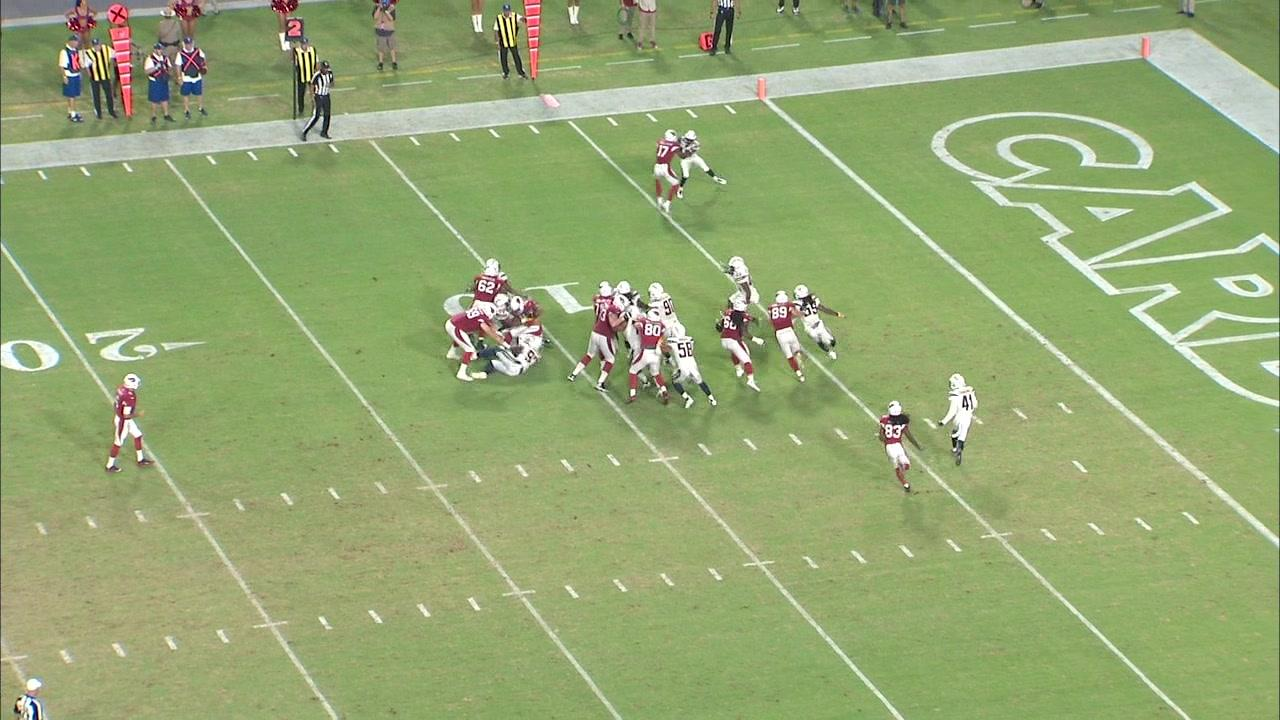marker: (106, 5, 143, 119), (520, 0, 549, 80)
number: (0, 324, 156, 372)
player: (755, 76, 770, 102), (1141, 36, 1151, 59)
